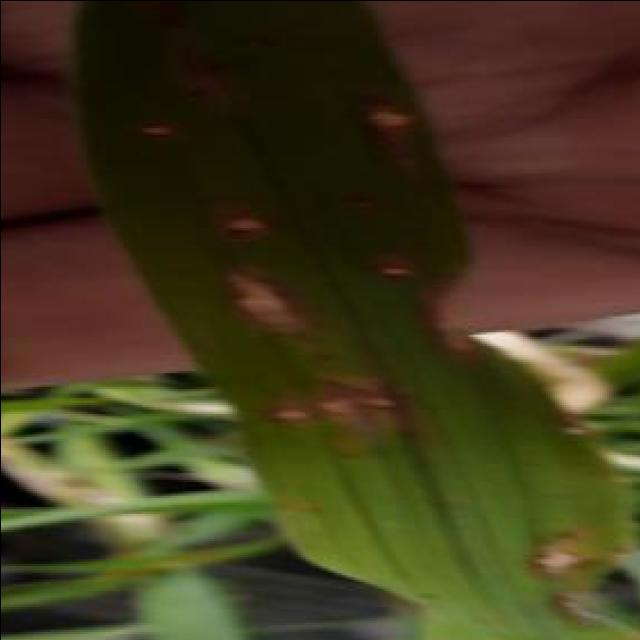Leaf_Blast: (216, 259, 322, 361), (314, 368, 424, 444), (510, 520, 592, 597), (364, 90, 434, 156), (197, 202, 277, 250), (122, 107, 190, 159), (263, 384, 309, 456), (366, 252, 434, 295)
